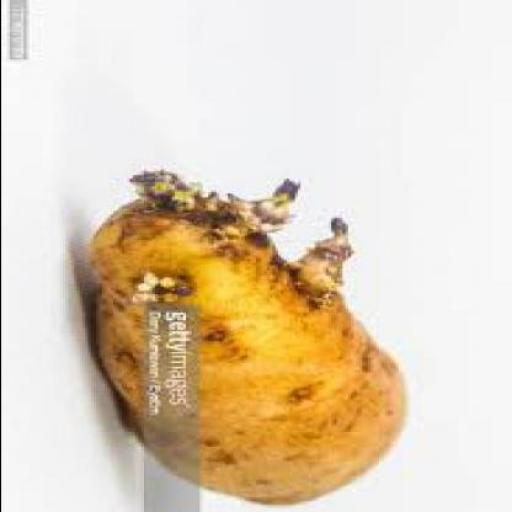biodegradable: (86, 168, 409, 503)
